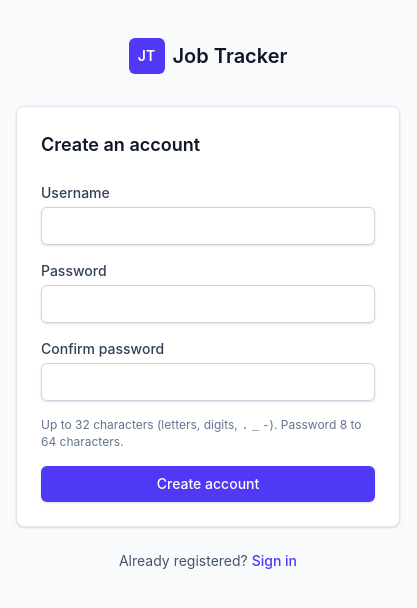
it: RegisterPage › rejects user / short / short before sending: Password must be between 8 and 64 characters long.
Type "user" into the field labelled "Username" at (208, 226), box [41,206,375,244]
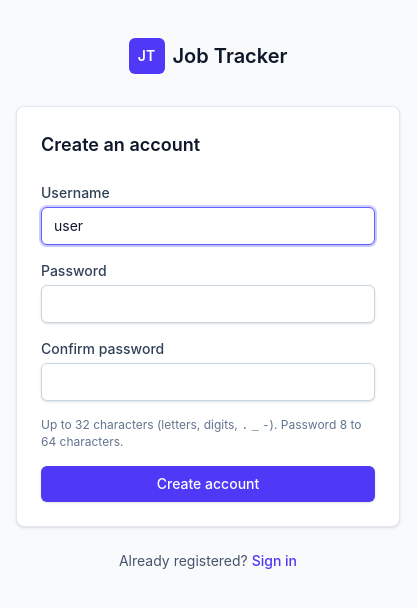
Type "short" into the password field labelled "Password" at (208, 304), box [41,284,375,322]
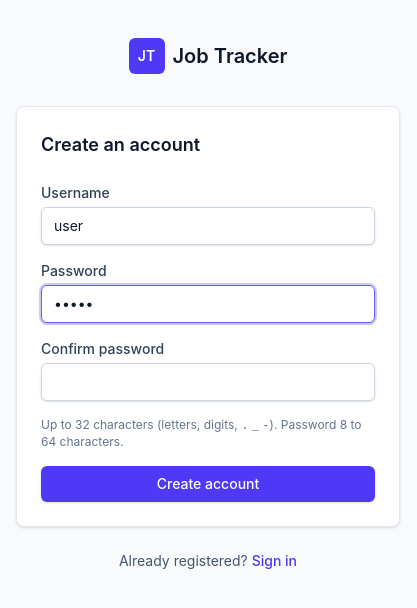
Type "short" into the password field labelled "Confirm password" at (208, 382), box [41,362,375,400]
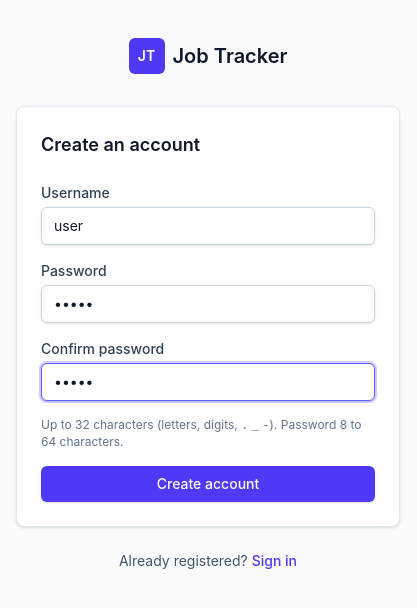
Click the button "Create account" at (208, 484), box [41,466,375,502]
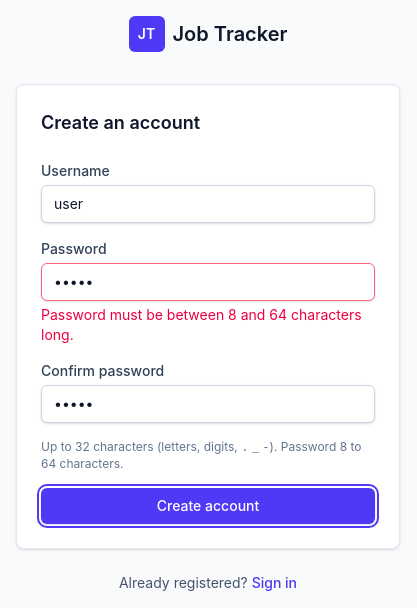
Now the text "Password must be between 8 and 64 characters long." is shown, box [41,304,375,344]
